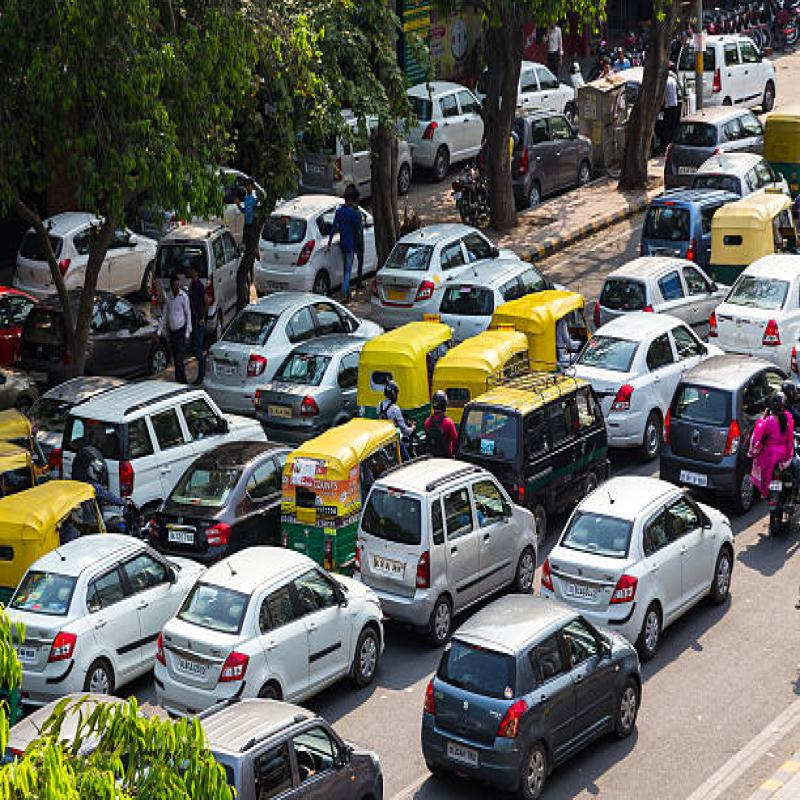auto: (281, 416, 411, 554), (424, 336, 550, 432), (706, 179, 800, 293), (360, 322, 456, 433), (478, 290, 606, 369), (0, 475, 90, 577)
car: (139, 543, 412, 712), (7, 534, 213, 740), (414, 590, 644, 772), (531, 460, 745, 654), (349, 459, 566, 620), (187, 677, 381, 800), (146, 447, 328, 557), (80, 393, 276, 494), (214, 283, 372, 400), (473, 375, 604, 516), (668, 363, 784, 513), (590, 324, 732, 446), (267, 326, 374, 435), (262, 198, 383, 292), (374, 220, 497, 312), (584, 242, 704, 332), (608, 250, 725, 340), (410, 63, 485, 187), (509, 104, 597, 201), (686, 20, 768, 110), (640, 179, 740, 242)
